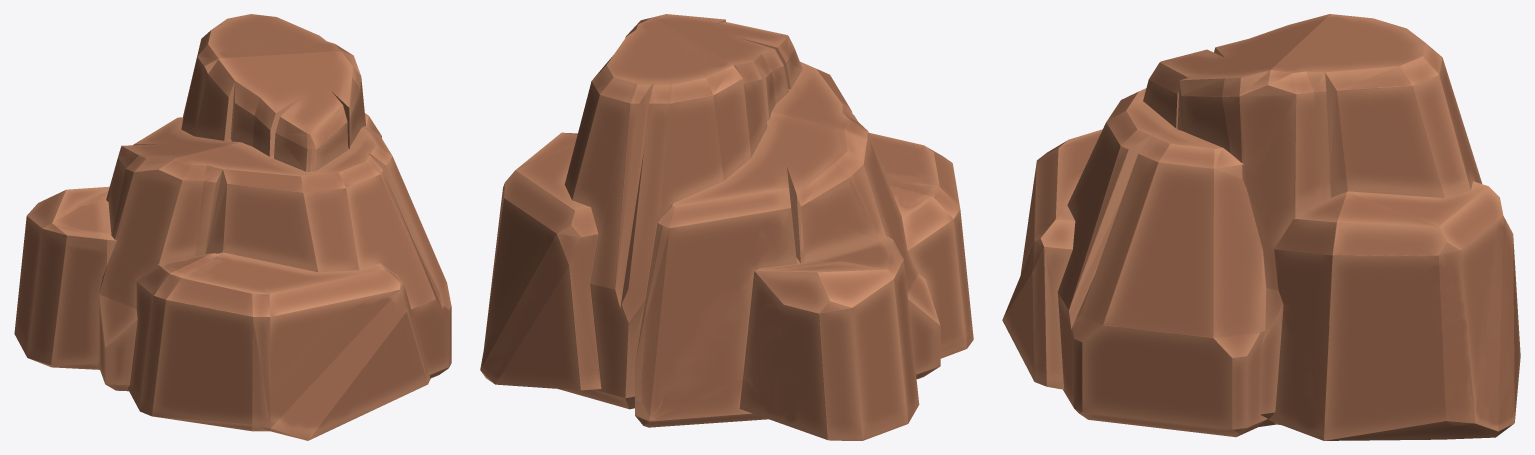
File: big_rock_01.glb
The picture shows the model from 3 angles, left to right: view 1: azimuth 30°, elevation 25°; view 2: azimuth 150°, elevation 25°; view 3: azimuth 270°, elevation 25°; orthographic projection. The views are drawn at different scales.
Parts seen in each view (by area): view 1: Cube.009_Big_rock_2_0; view 2: Cube.009_Big_rock_2_0; view 3: Cube.009_Big_rock_2_0.
Part boxes in pixels (box(x1,y1,x2,y2)): Cube.009_Big_rock_2_0: box(14, 14, 451, 440); Cube.009_Big_rock_2_0: box(480, 14, 973, 440); Cube.009_Big_rock_2_0: box(1002, 14, 1520, 440).
Bounding box in the file's own units: 15.99 × 12.36 × 16.98.
Materials: 1 (1 with a texture image).
